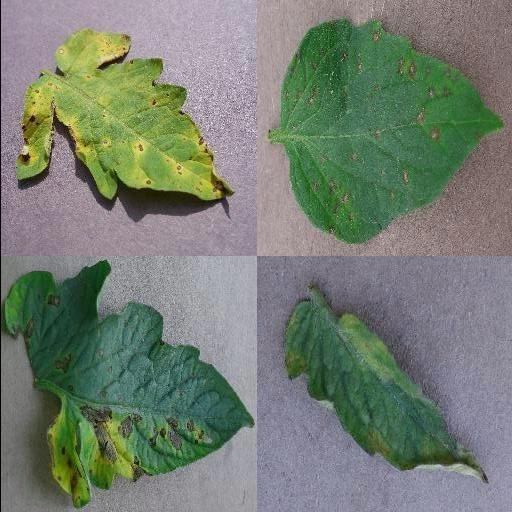Early Blight: (0, 258, 254, 508)
Leaf Mold: (281, 302, 489, 485)
Septoria: (280, 20, 506, 246), (14, 31, 232, 205)
